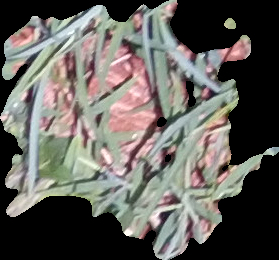grass: (1, 1, 278, 258)
